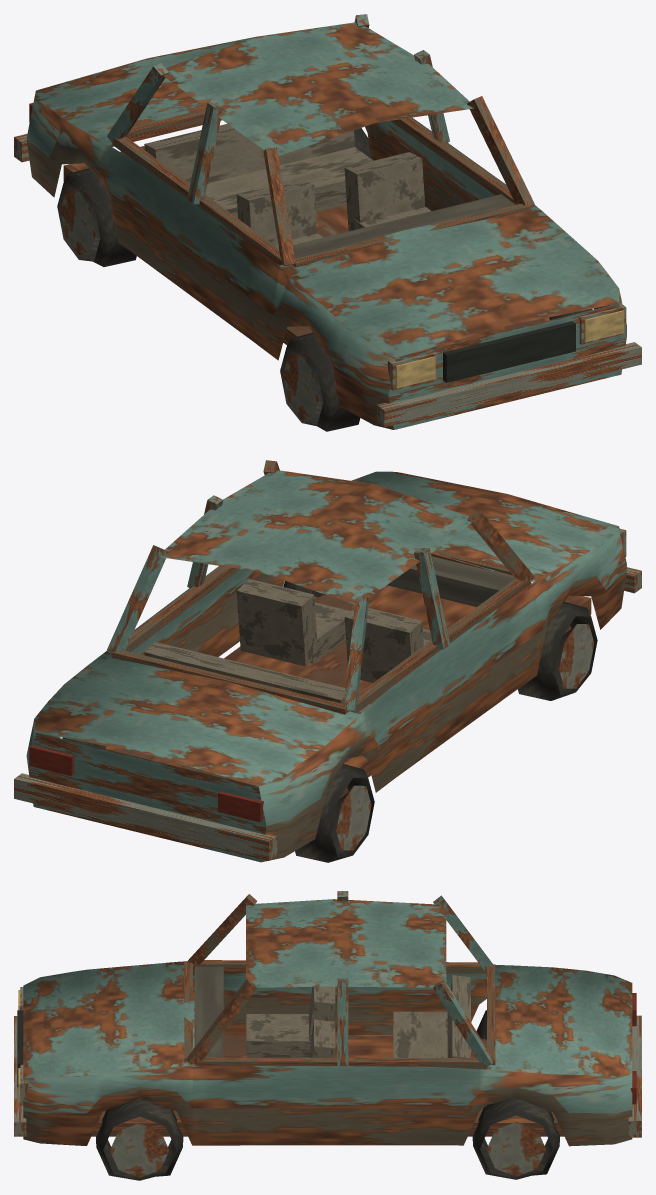
File: car-wreck-1_lod1.glb
3 renders of one model, top to bottom at view 1: azimuth 30°, elevation 25°; view 2: azimuth 150°, elevation 25°; view 3: azimuth 270°, elevation 25°, orthographic. The views are drawn at different scales.
Parts seen in each view (by area): view 1: Car Wreck 01 LOD1; view 2: Car Wreck 01 LOD1; view 3: Car Wreck 01 LOD1.
Part boxes in pixels (x1=…): Car Wreck 01 LOD1: x1=14, y1=14, x2=641, y2=431; Car Wreck 01 LOD1: x1=14, y1=460, x2=641, y2=862; Car Wreck 01 LOD1: x1=14, y1=891, x2=641, y2=1180.
Bounding box in the file's own units: 1.8 × 1.4 × 4.2.
1 material, 1 textured.
